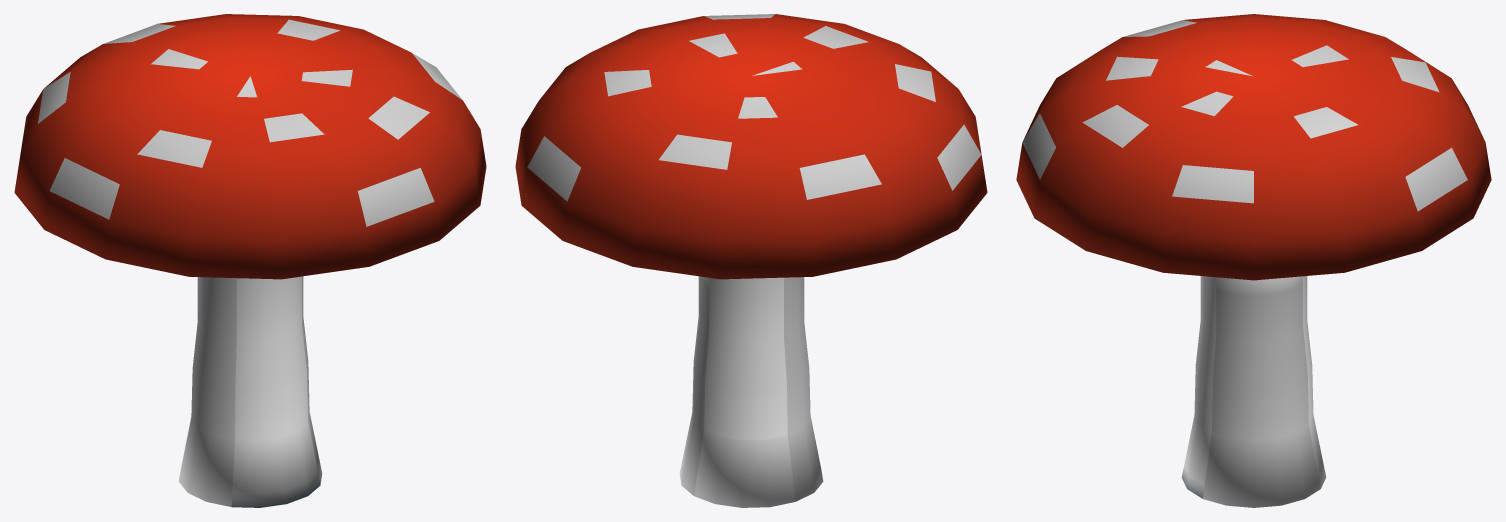
File: Mushroom.glb
The picture shows the model from 3 angles, left to right: view 1: azimuth 30°, elevation 25°; view 2: azimuth 150°, elevation 25°; view 3: azimuth 270°, elevation 25°; orthographic projection.
Parts seen in each view (by area): view 1: Cube; view 2: Cube; view 3: Cube.
Part boxes in pixels (bbox=[...]): Cube: bbox=[14, 14, 486, 507]; Cube: bbox=[515, 14, 987, 507]; Cube: bbox=[1016, 14, 1491, 507].
Bounding box in the file's own units: 1 × 0.9325 × 1.
Materials: 1 (1 with a texture image).
